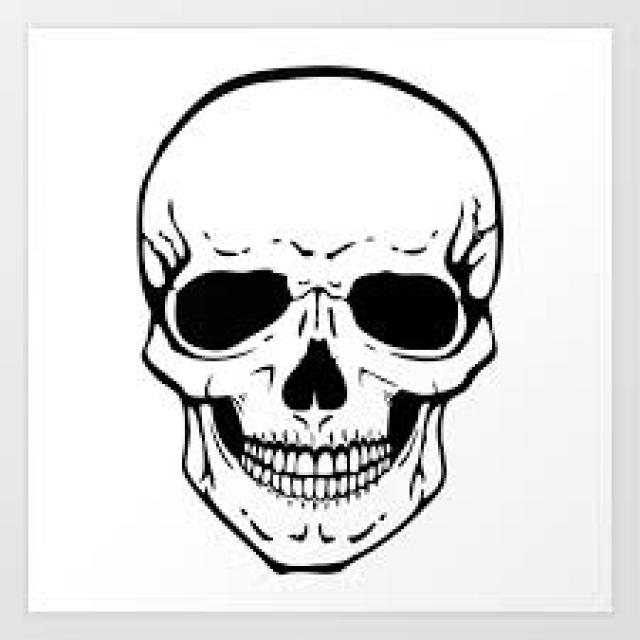skull: (120, 48, 523, 582)
